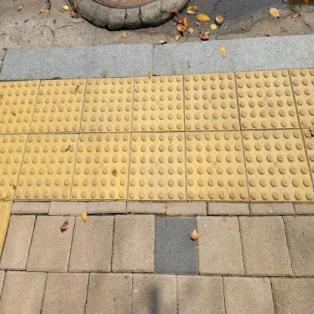Podoctatil: (0, 61, 313, 208)
